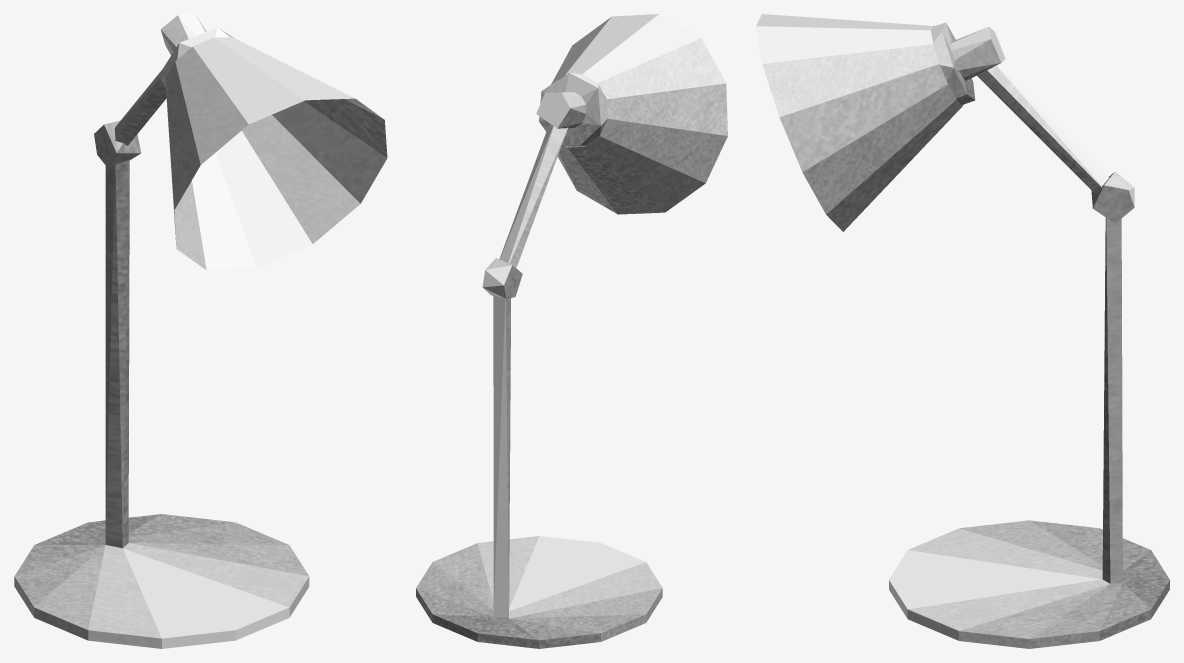
Rendered from table_lamp_decimated.fbx.
The picture shows the model from 3 angles, left to right: view 1: azimuth 30°, elevation 25°; view 2: azimuth 150°, elevation 25°; view 3: azimuth 270°, elevation 25°; orthographic projection. The views are drawn at different scales.
Visible parts, largest first — view 1: Circle.002; view 2: Circle.002; view 3: Circle.002.
Boxes of the visible parts, x1=… form: Circle.002: x1=14, y1=14, x2=387, y2=648; Circle.002: x1=416, y1=14, x2=727, y2=648; Circle.002: x1=756, y1=14, x2=1169, y2=648.
Bounding box in the file's own units: 100 × 221 × 147.
